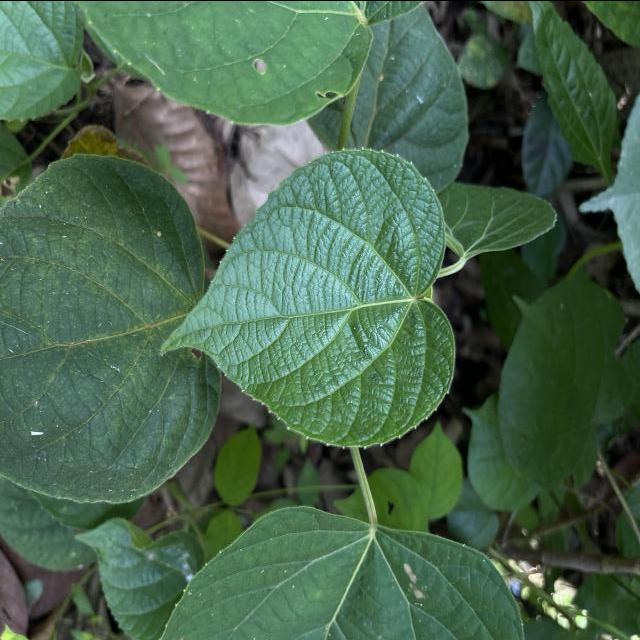Clerodendrum infortunatum: (155, 143, 460, 450)
